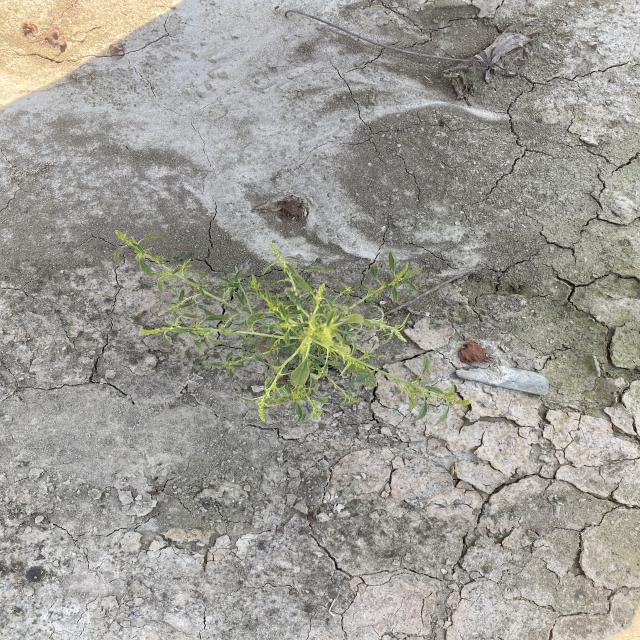Waterhemp: (111, 227, 475, 428)
